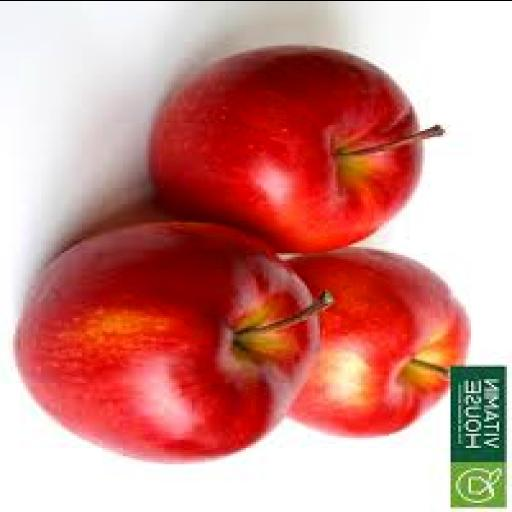apple: (17, 222, 329, 461), (151, 45, 441, 251), (289, 248, 467, 436)
